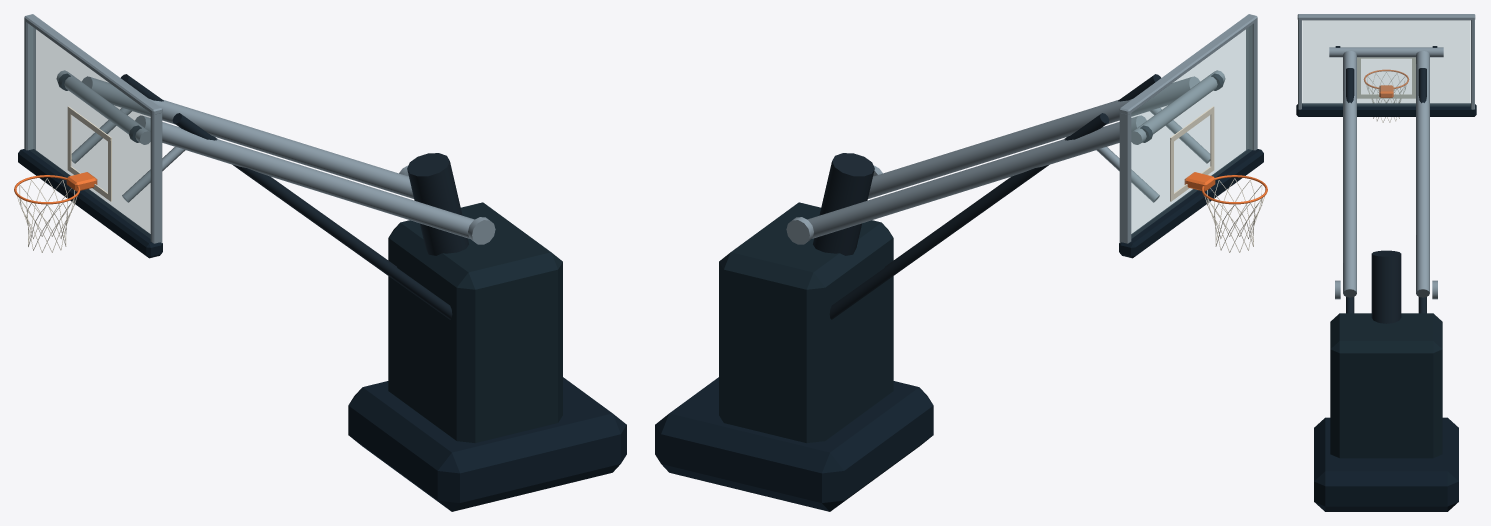
The model's file is hoop.glb.
3 views of the same model, side by side, from view 1: azimuth 30°, elevation 25°; view 2: azimuth 150°, elevation 25°; view 3: azimuth 270°, elevation 25° (orthographic). The views are drawn at different scales.
Parts seen in each view (by area): view 1: Hoop_ink, Hoop_rubber, Hoop_steel, Hoop_glass, Hoop_dark-steel, Hoop_net, Hoop_chalk, Hoop_rim; view 2: Hoop_ink, Hoop_rubber, Hoop_steel, Hoop_glass, Hoop_dark-steel, Hoop_net, Hoop_chalk, Hoop_rim; view 3: Hoop_ink, Hoop_glass, Hoop_rubber, Hoop_steel, Hoop_dark-steel, Hoop_chalk, Hoop_rim, Hoop_net.
Boxes of the visible parts, x1,y1,x2,y2 form: Hoop_ink: (388, 202, 562, 443); Hoop_rubber: (18, 149, 626, 511); Hoop_steel: (24, 14, 495, 244); Hoop_glass: (29, 25, 150, 237); Hoop_dark-steel: (58, 73, 468, 319); Hoop_net: (17, 178, 77, 252); Hoop_chalk: (67, 106, 111, 201); Hoop_rim: (14, 172, 97, 204); Hoop_ink: (719, 202, 893, 443); Hoop_rubber: (655, 149, 1263, 511); Hoop_steel: (786, 14, 1257, 244); Hoop_glass: (1131, 25, 1252, 237); Hoop_dark-steel: (813, 73, 1223, 319); Hoop_net: (1204, 178, 1264, 252); Hoop_chalk: (1170, 106, 1214, 201); Hoop_rim: (1184, 172, 1267, 204); Hoop_ink: (1330, 313, 1442, 458); Hoop_glass: (1302, 20, 1470, 105); Hoop_rubber: (1296, 103, 1476, 511); Hoop_steel: (1297, 14, 1475, 299); Hoop_dark-steel: (1335, 46, 1437, 323); Hoop_chalk: (1357, 57, 1415, 98); Hoop_rim: (1364, 69, 1408, 97); Hoop_net: (1366, 72, 1406, 122).
Size of the model in its own units: 4.77 by 3.99 by 1.93.
